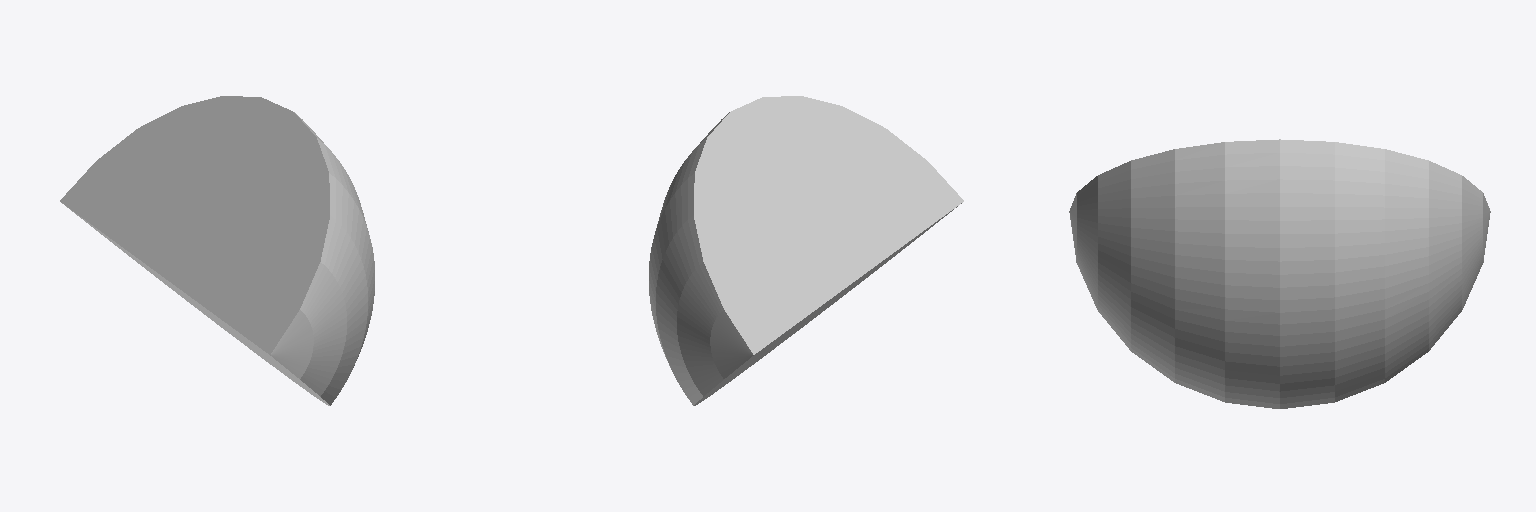
File: quarter_sphere_1m_radius.obj
3 views of the same model, side by side, from view 1: azimuth 30°, elevation 25°; view 2: azimuth 150°, elevation 25°; view 3: azimuth 270°, elevation 25° (orthographic).
Visible parts, largest first — view 1: Sphere01; view 2: Sphere01; view 3: Sphere01.
Boxes of the visible parts, x1=… form: Sphere01: x1=60, y1=96, x2=374, y2=405; Sphere01: x1=649, y1=96, x2=963, y2=405; Sphere01: x1=1069, y1=139, x2=1490, y2=408.
Bounding box in the file's own units: 1 × 1.41 × 2.